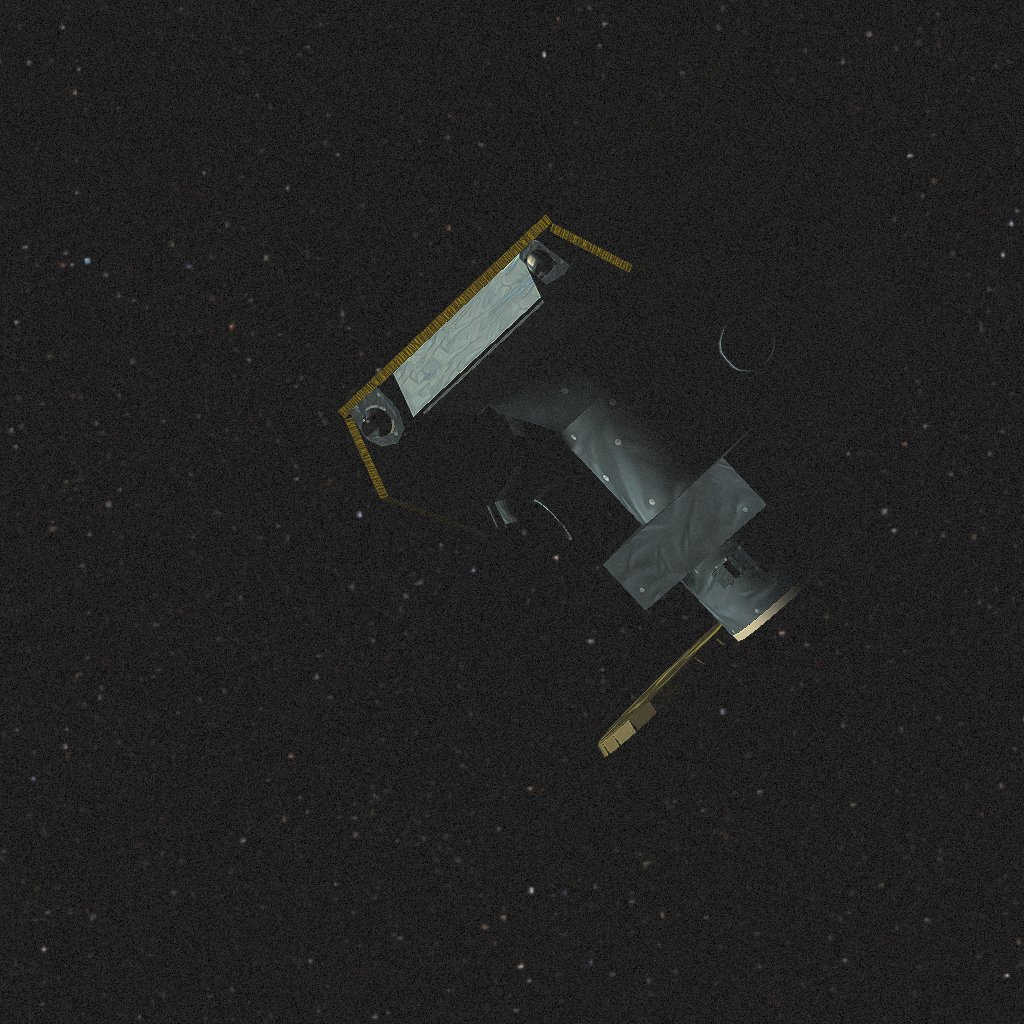cheops: (338, 48, 966, 757)
